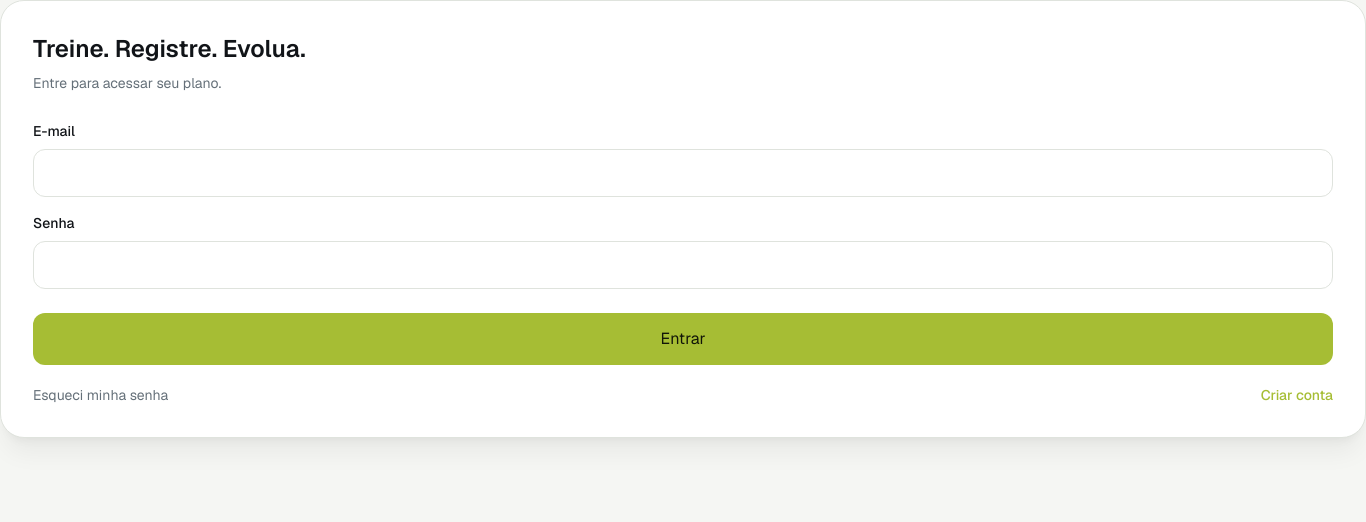
Test: AuthForm › shows invalid credentials returned by the server action
Step 1. Type "member@example.test" into the field labelled "E-mail" → (683, 173), box [33, 149, 1333, 197]
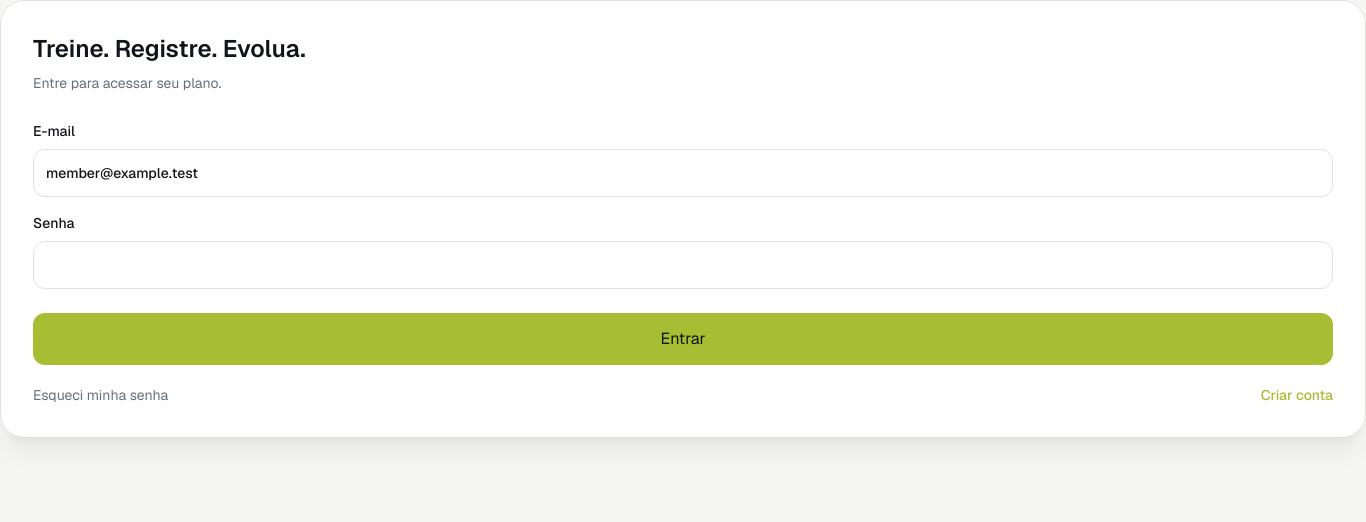
Step 2. Type "DiagnosticSafe12" into the password field labelled "Senha" → (683, 265), box [33, 241, 1333, 289]
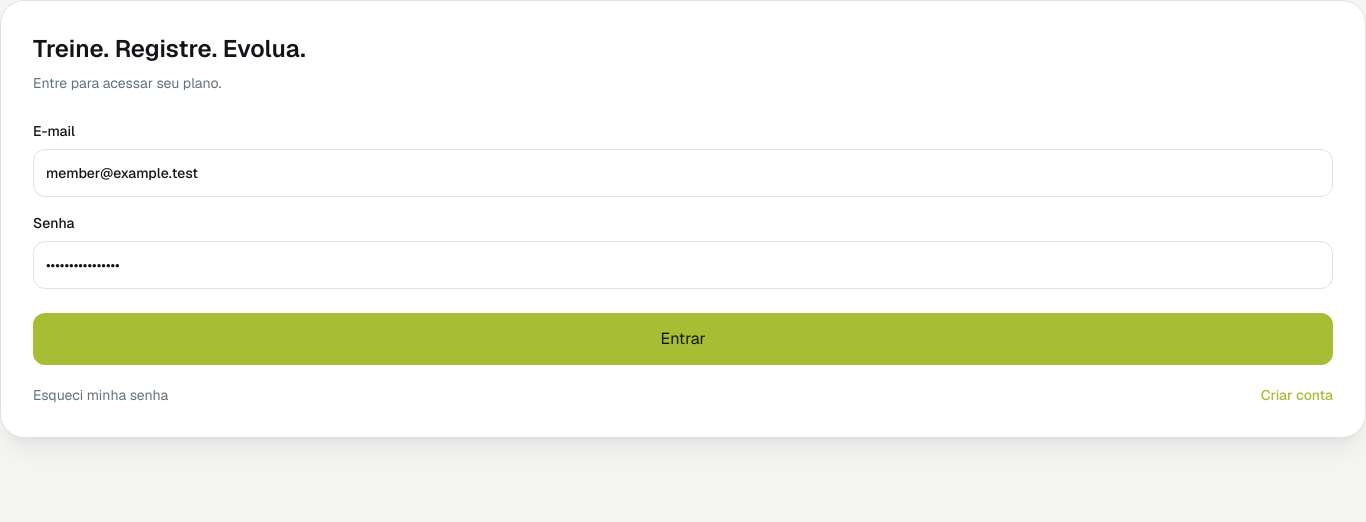
Step 3. Click the button "Entrar" → (683, 339), box [33, 313, 1333, 365]
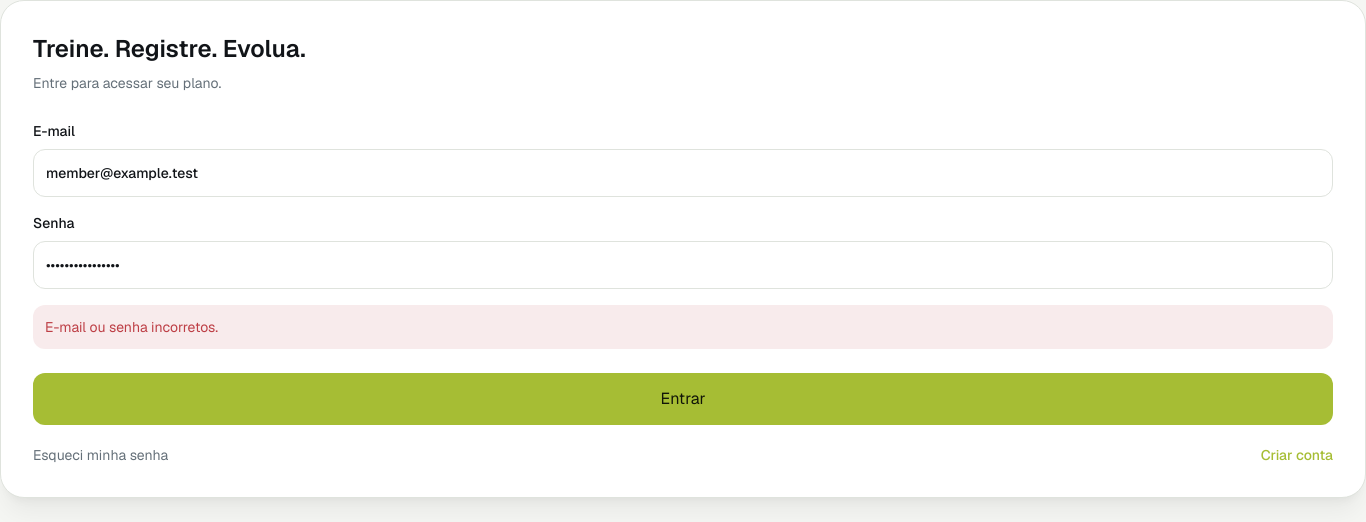
Expected: the message reads "E-mail ou senha incorretos.", [45, 318, 218, 336]
